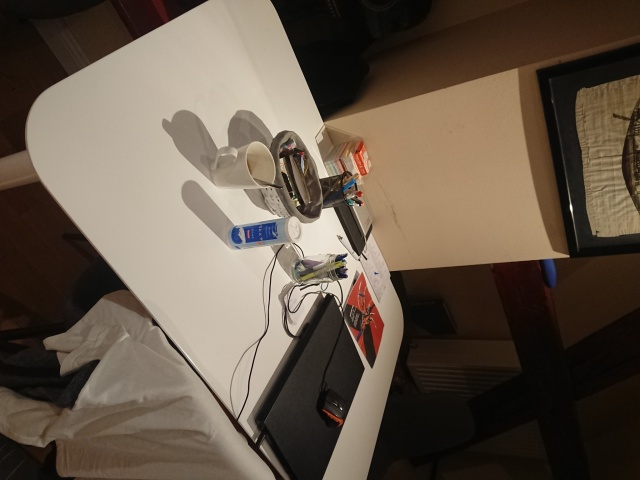Solana Pag Fine Sea Salt 250g: (225, 213, 304, 251)
